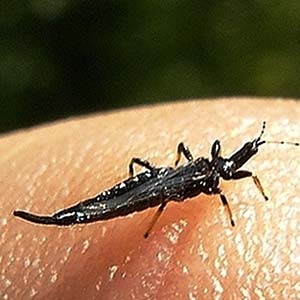Thrips: (10, 149, 292, 240)
